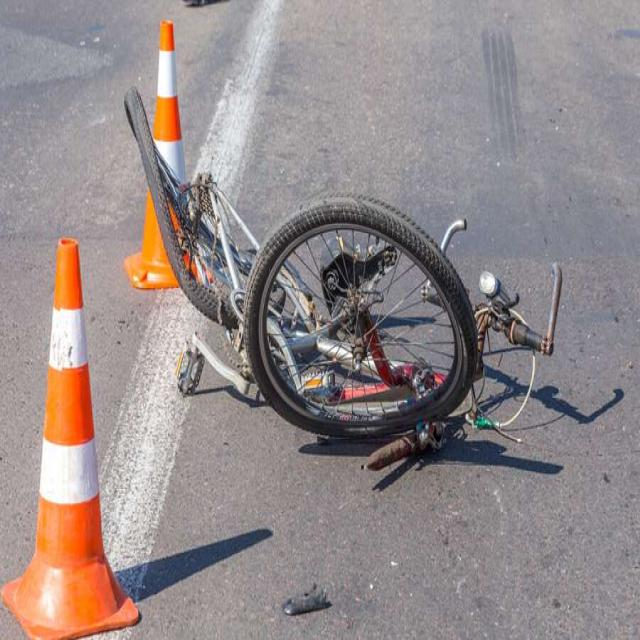accident: (125, 90, 561, 469)
